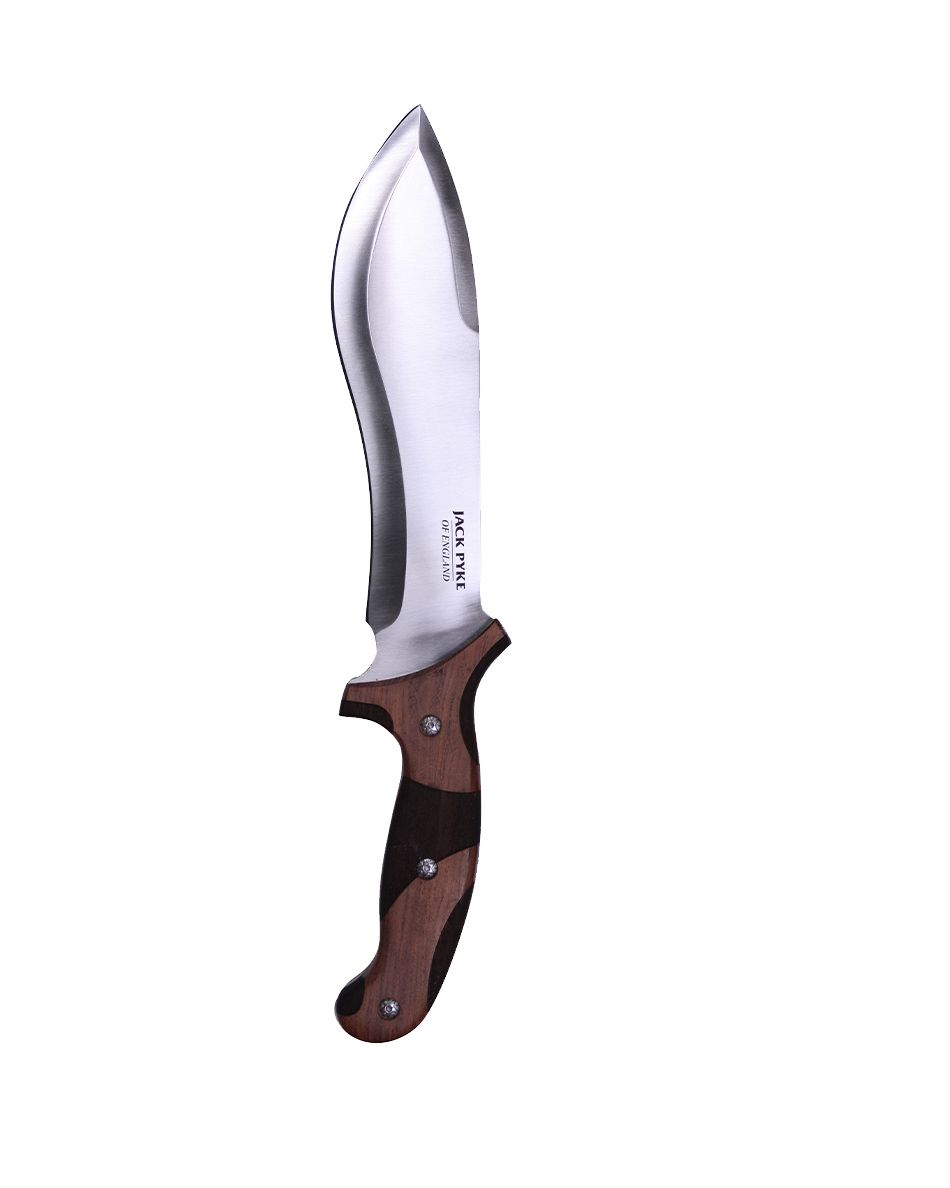knife: (323, 103, 511, 1047)
